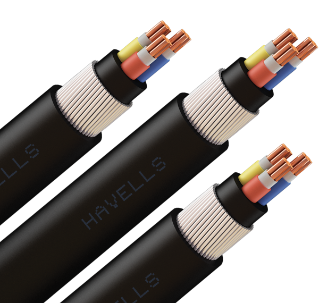Nonrec_Tangler: (32, 29, 319, 273)
